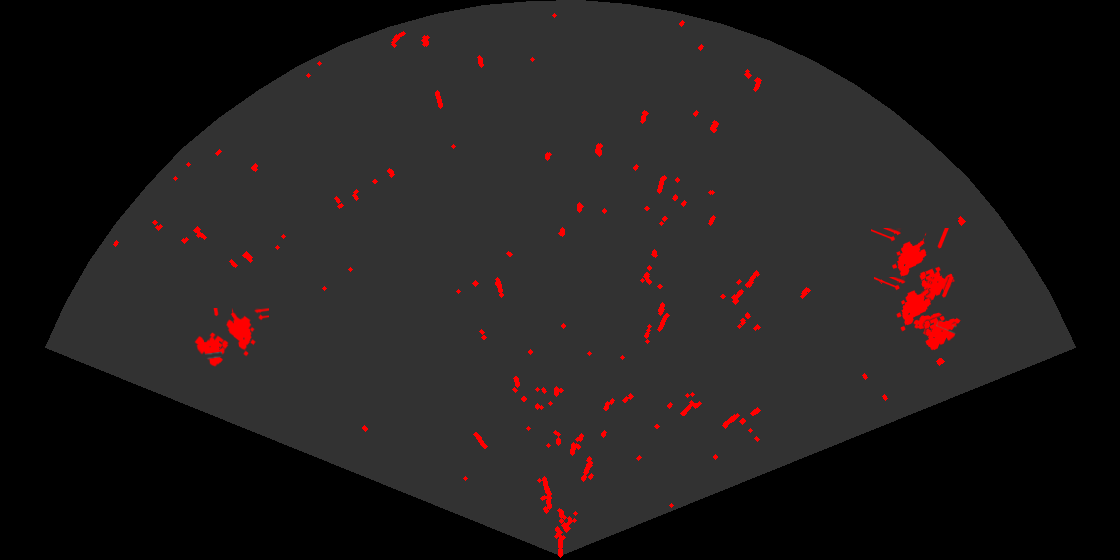AUV: (912, 311, 962, 338)
cage: (871, 228, 956, 303), (874, 277, 958, 352), (193, 308, 269, 368)
